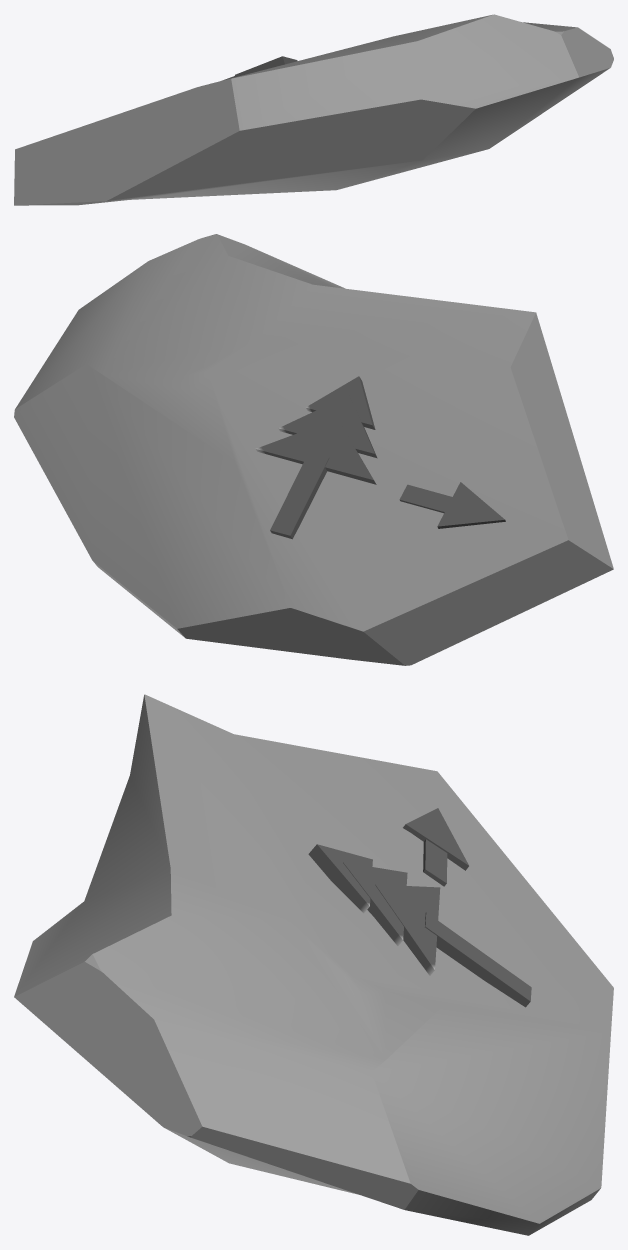
The model's file is Mountain_Rock.fbx.
The picture shows the model from 3 angles, top to bottom: view 1: azimuth 30°, elevation 25°; view 2: azimuth 150°, elevation 25°; view 3: azimuth 270°, elevation 25°; orthographic projection. The views are drawn at different scales.
Visible parts, largest first — view 1: Rock_SE04_street signs; view 2: Rock_SE04_street signs; view 3: Rock_SE04_street signs.
Boxes of the visible parts, x1=… form: Rock_SE04_street signs: x1=14, y1=14, x2=613, y2=205; Rock_SE04_street signs: x1=14, y1=234, x2=613, y2=665; Rock_SE04_street signs: x1=14, y1=694, x2=613, y2=1235.
Size of the model in its own units: 216 by 89.72 by 132.
1 material, 1 textured.
